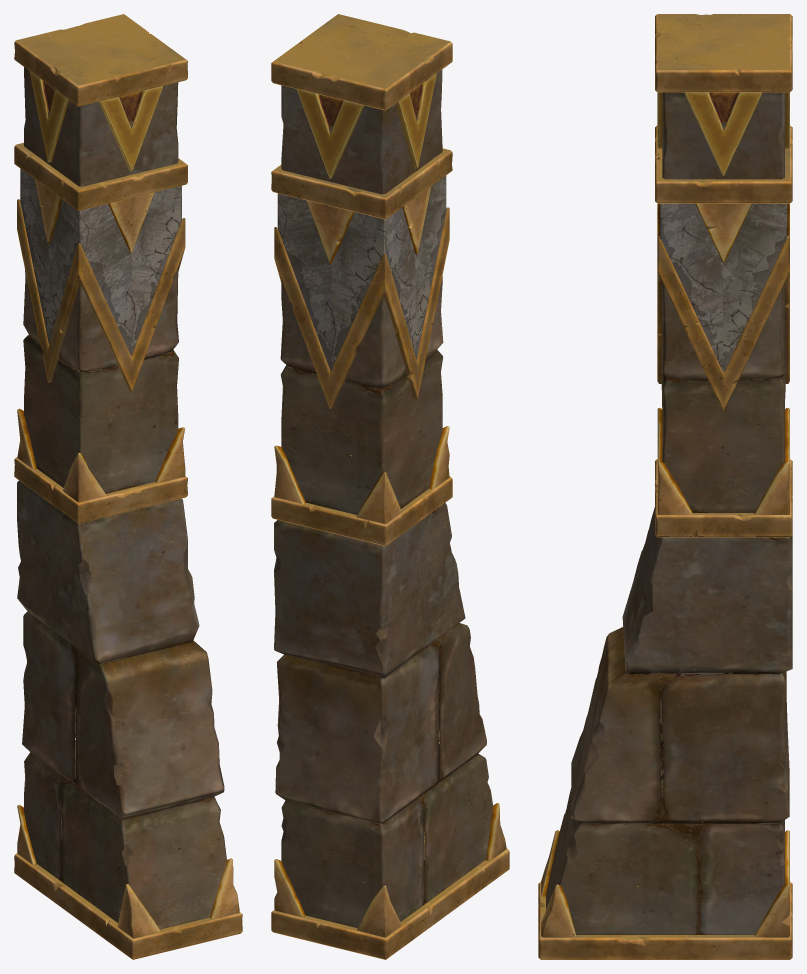
3 renders of one model, left to right at view 1: azimuth 30°, elevation 25°; view 2: azimuth 150°, elevation 25°; view 3: azimuth 270°, elevation 25°, orthographic. The views are drawn at different scales.
Parts seen in each view (by area): view 1: SM_Vault_8m_Column_01_V4_LOD0; view 2: SM_Vault_8m_Column_01_V4_LOD0; view 3: SM_Vault_8m_Column_01_V4_LOD0.
Boxes of the visible parts, <box> form: SM_Vault_8m_Column_01_V4_LOD0: <box>14,14,242,959</box>; SM_Vault_8m_Column_01_V4_LOD0: <box>271,14,509,959</box>; SM_Vault_8m_Column_01_V4_LOD0: <box>538,14,792,959</box>.
Size of the model in its own units: 1.12 by 8 by 2.07.
Materials: 5 (5 with a texture image).
